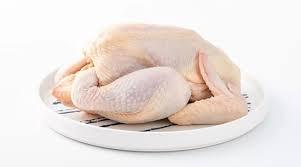chicken: (24, 5, 117, 33)
